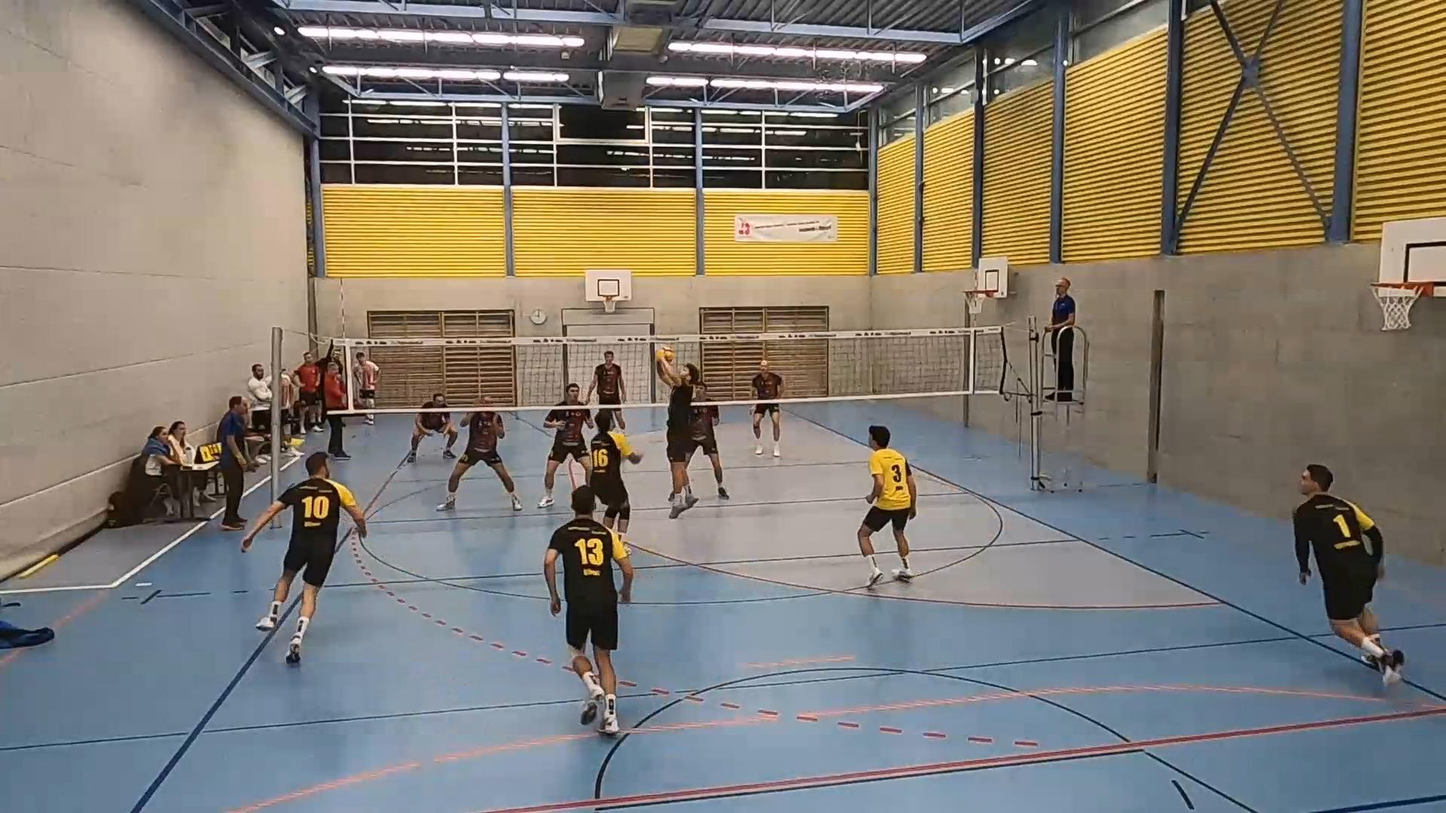alzata: (652, 355, 707, 516)
